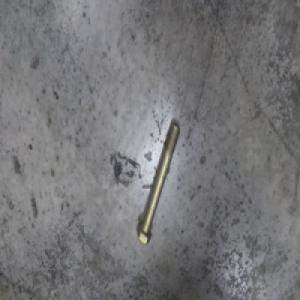Bolt: (139, 116, 182, 245)
